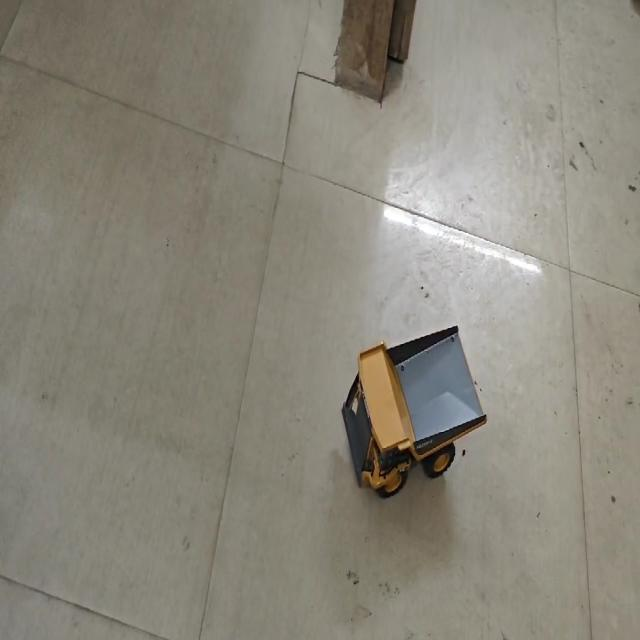dump_truck: (334, 324, 488, 488)
